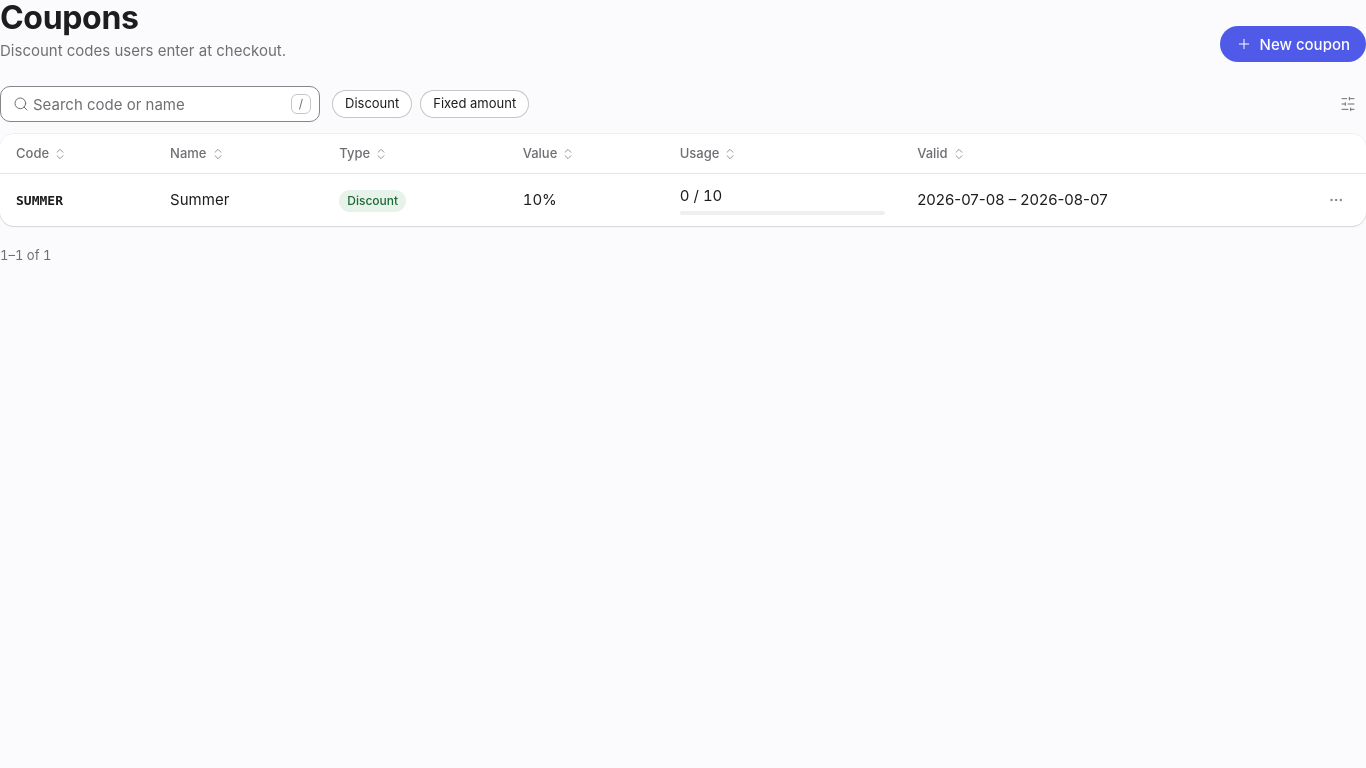
Test: Admin Coupons › dialogs and feedback › creates a coupon in a dialog with inline field and API errors
Expected: the text "SUMMER" is shown, [16,193,63,208]
Click the button "New coupon": (1293, 44) [1220,26,1365,62]
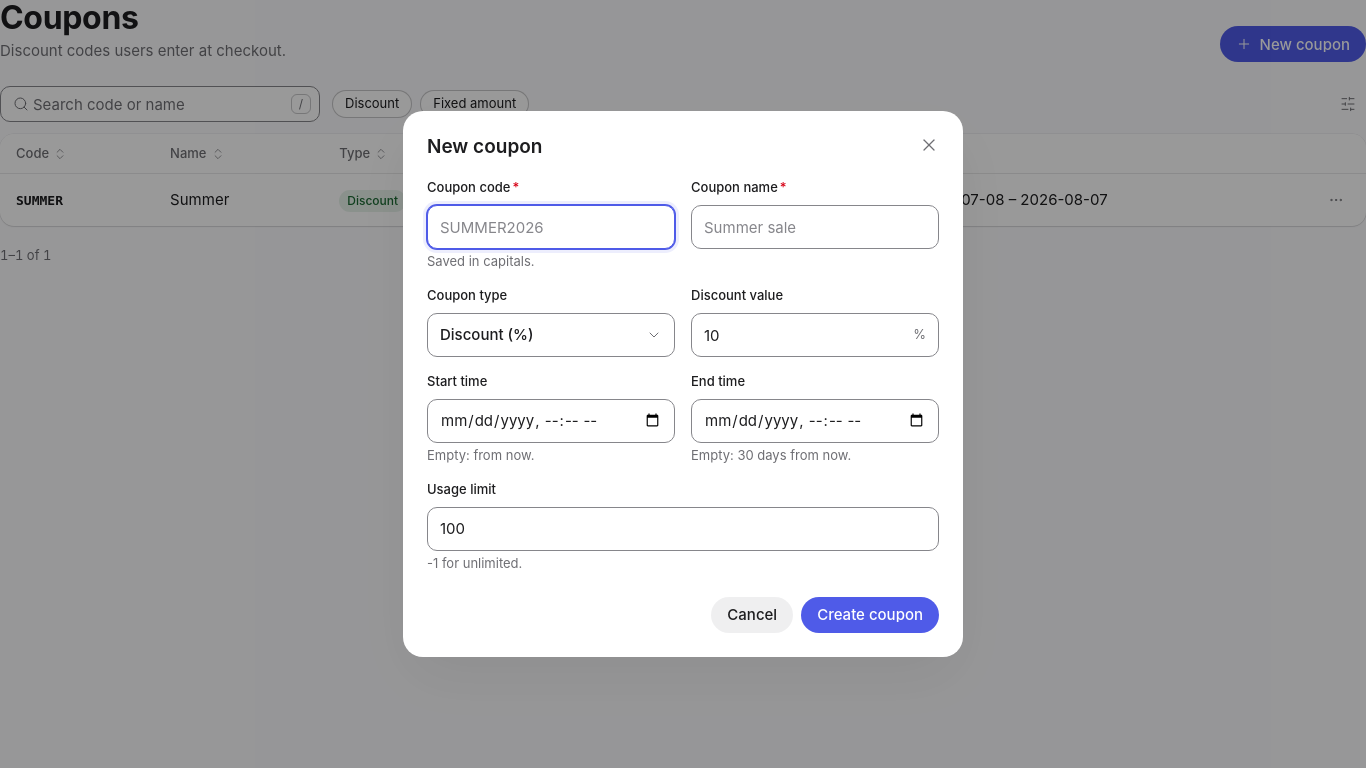
Click the button "Create coupon": (870, 615) [801,597,939,633]
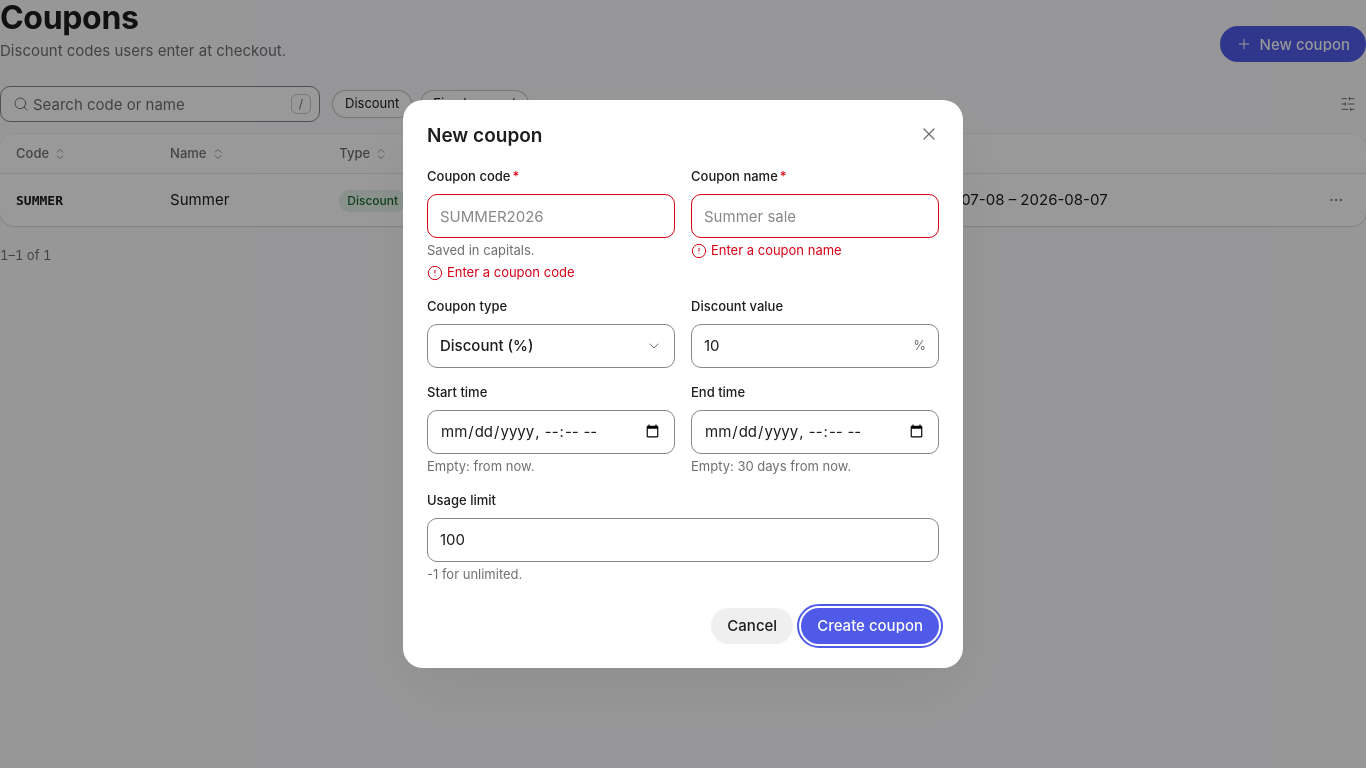
Now the dialog "New coupon" shows "Enter a coupon code", box [447,264,574,280]
Now the dialog "New coupon" shows "Enter a coupon name", box [711,242,842,258]
In the field labelled "Coupon code *": (551, 216) [428,195,674,237], type "new10"
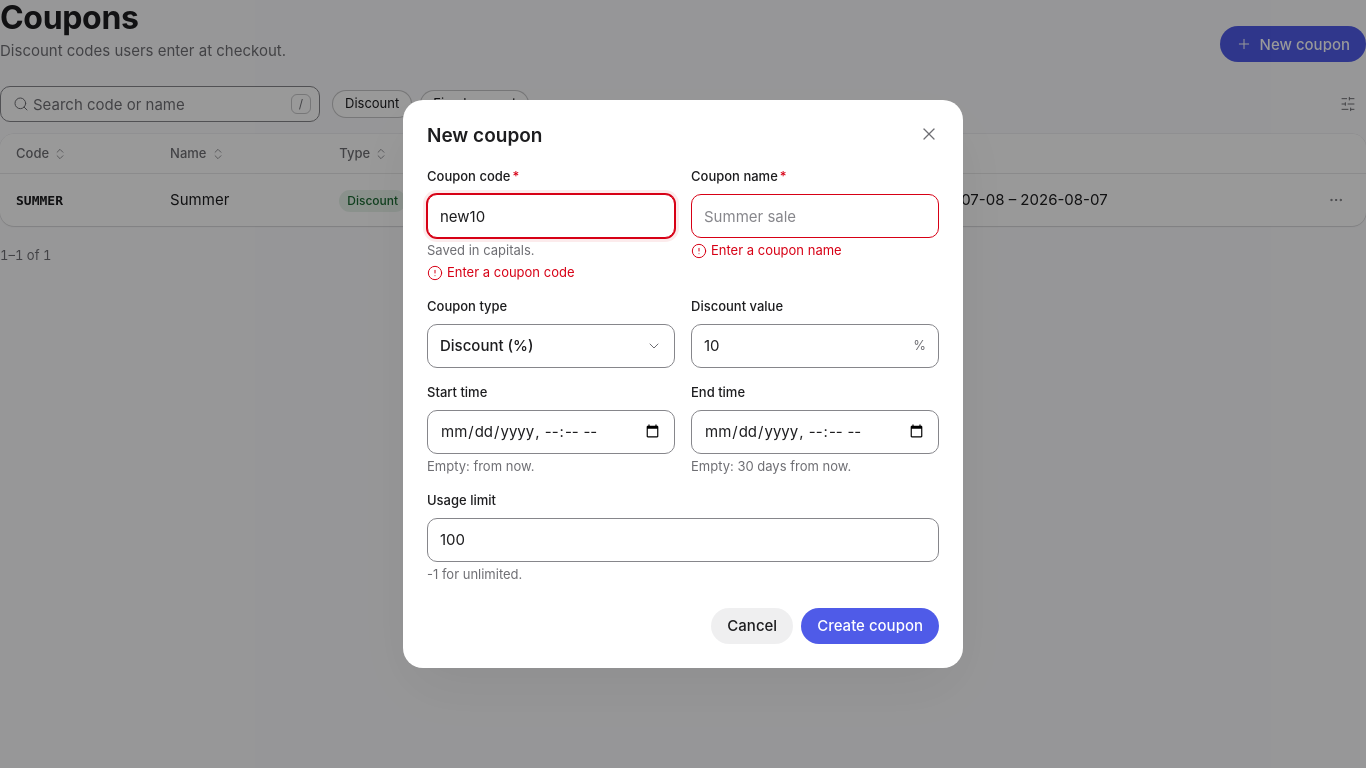
In the field labelled "Coupon name *": (815, 216) [692,195,938,237], type "New"
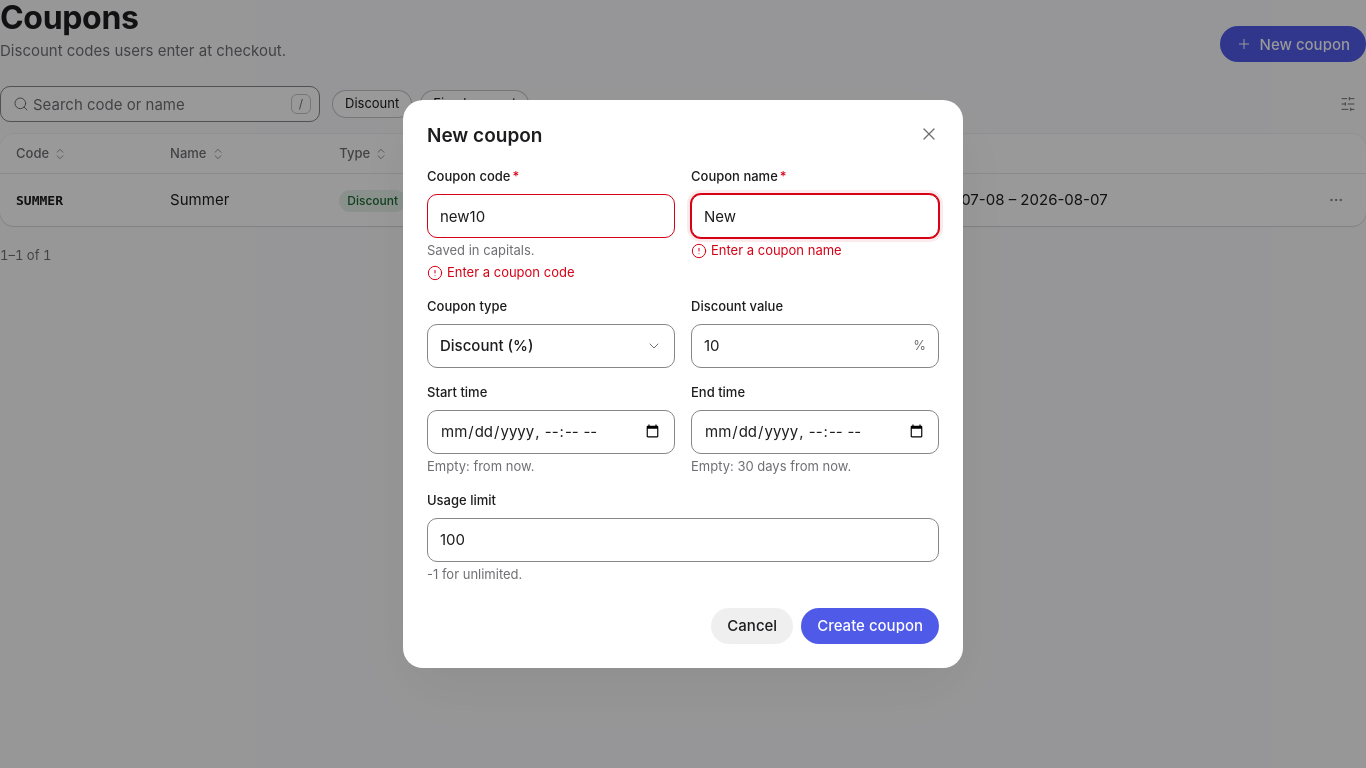
Click the button "Create coupon": (870, 626) [801,608,939,644]
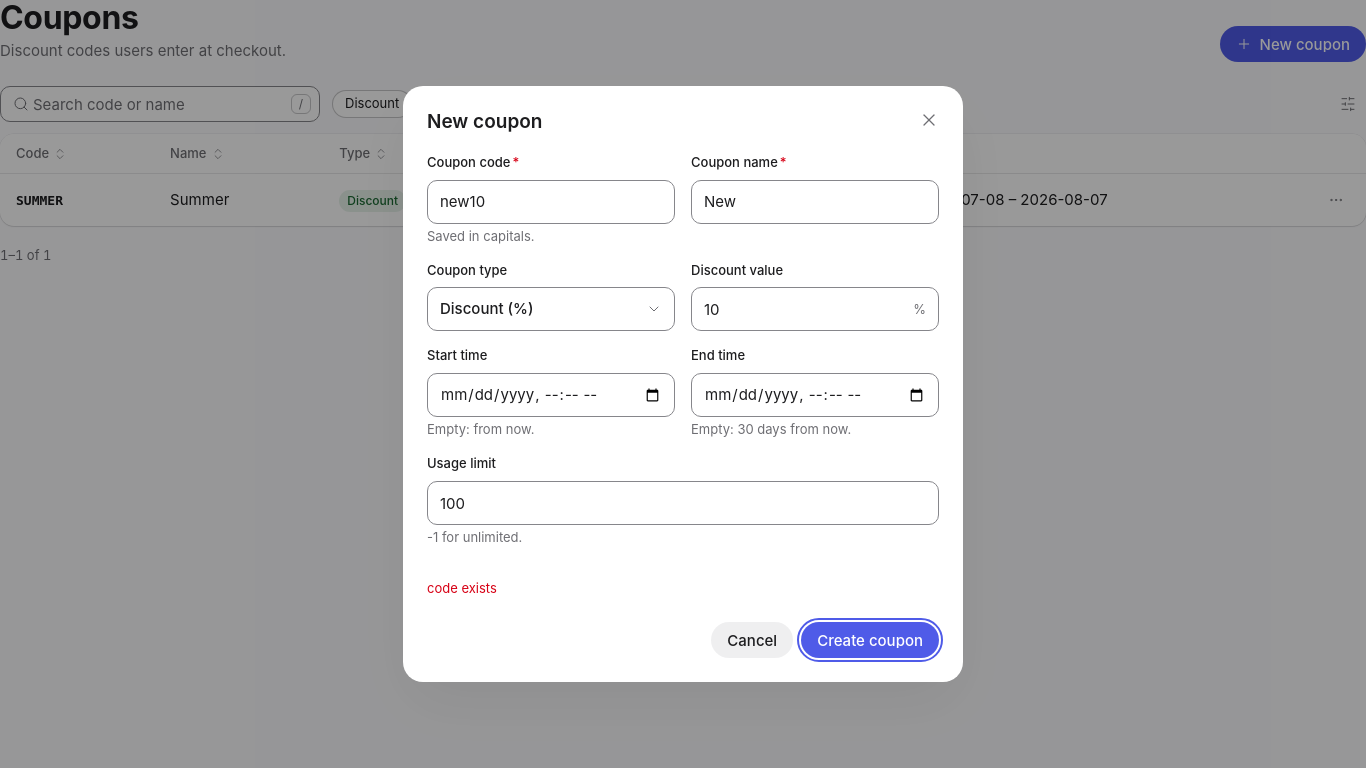
Now the dialog "New coupon" shows "code exists", box [427,580,497,596]
Click the button "Create coupon": (870, 640) [801,622,939,658]
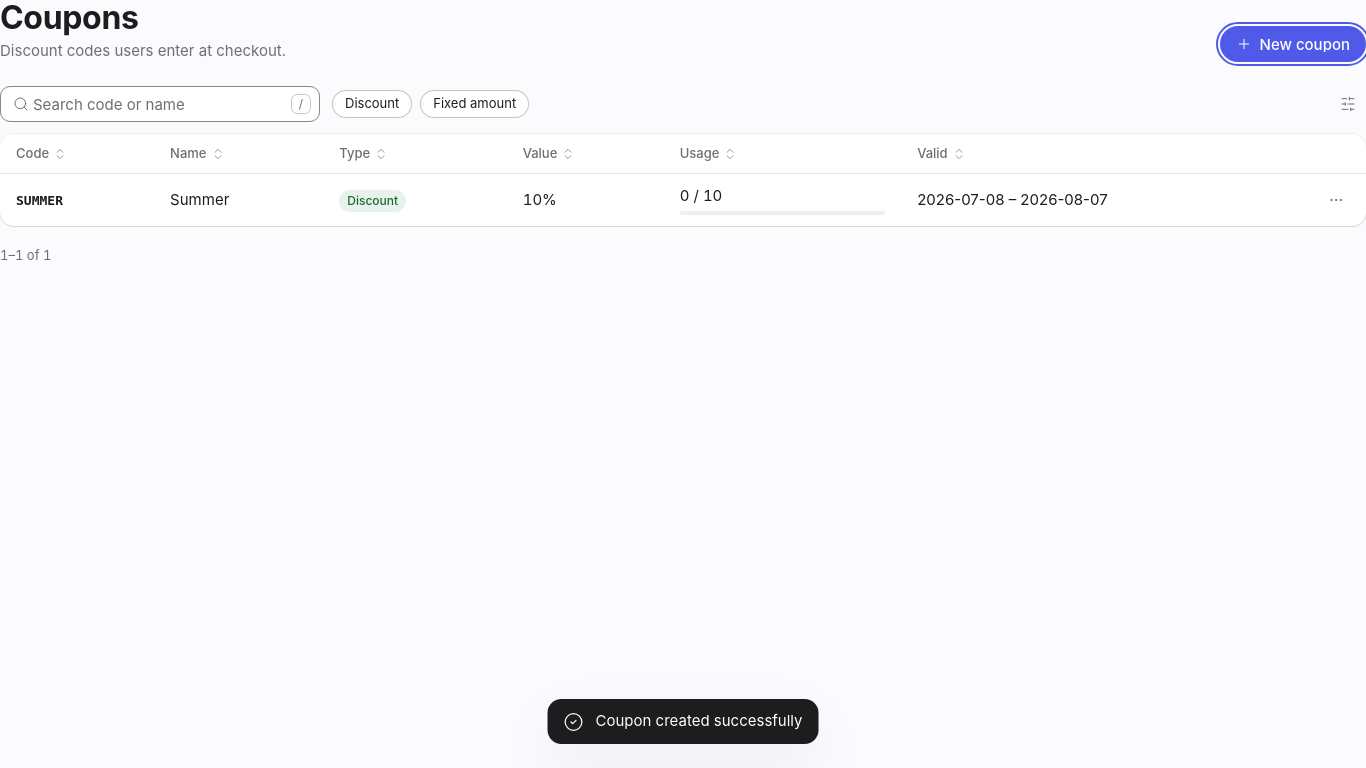
Now the dialog is gone
